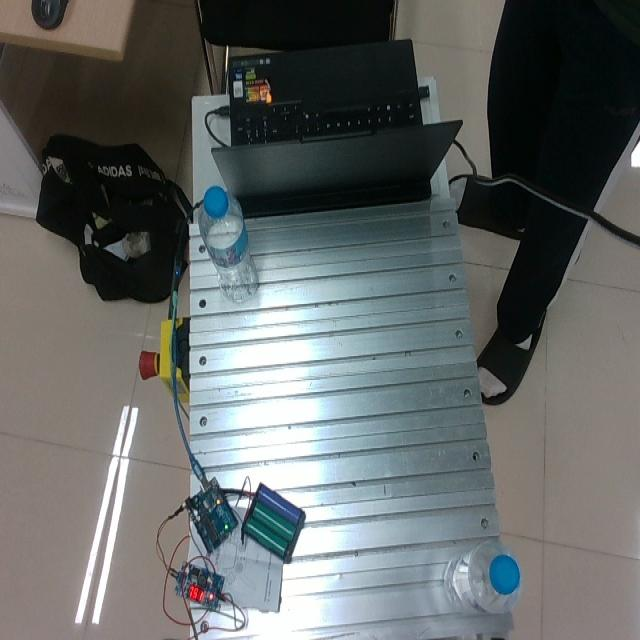lavie: (199, 184, 259, 304), (444, 538, 520, 614)
